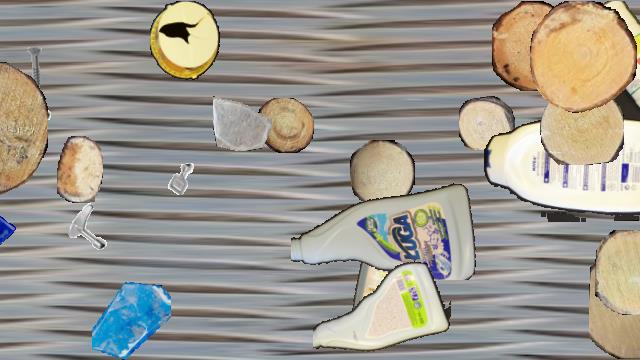glass: (92, 281, 170, 359), (213, 92, 271, 150), (0, 189, 16, 259)
metal: (0, 99, 61, 161), (62, 200, 116, 254), (11, 45, 59, 93), (160, 157, 204, 201)
plastic: (291, 176, 479, 280), (484, 118, 640, 222), (313, 257, 451, 359), (576, 1, 640, 159), (347, 217, 413, 339), (150, 1, 220, 79)
wood: (530, 1, 636, 113), (492, 1, 574, 91), (540, 84, 624, 164), (0, 62, 48, 194), (589, 247, 640, 359), (350, 140, 414, 204), (595, 230, 640, 314), (57, 136, 103, 202), (257, 98, 313, 152), (459, 96, 515, 150)
